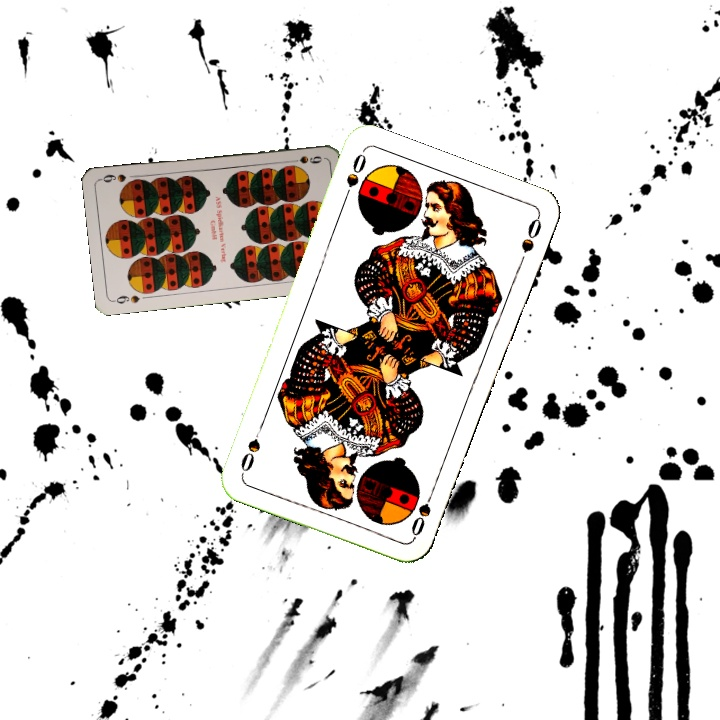S9: (284, 152, 325, 166), (110, 291, 142, 306)
SO: (407, 483, 438, 540), (339, 147, 369, 204)
